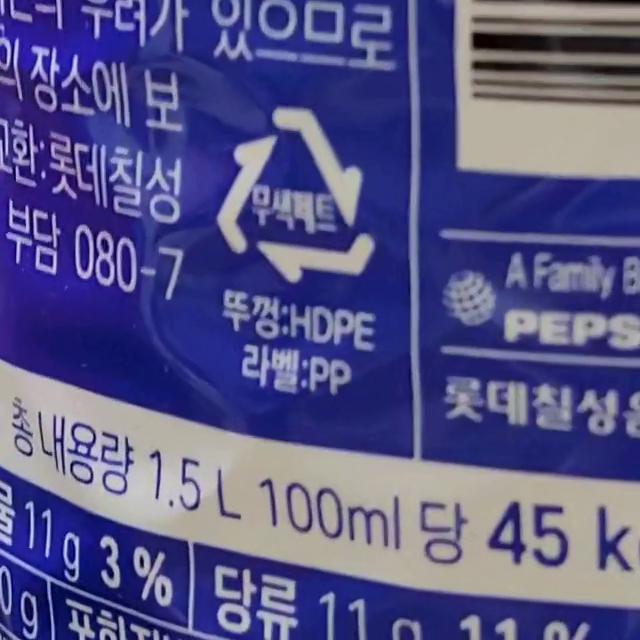ColorlessPet: (218, 109, 373, 282)
